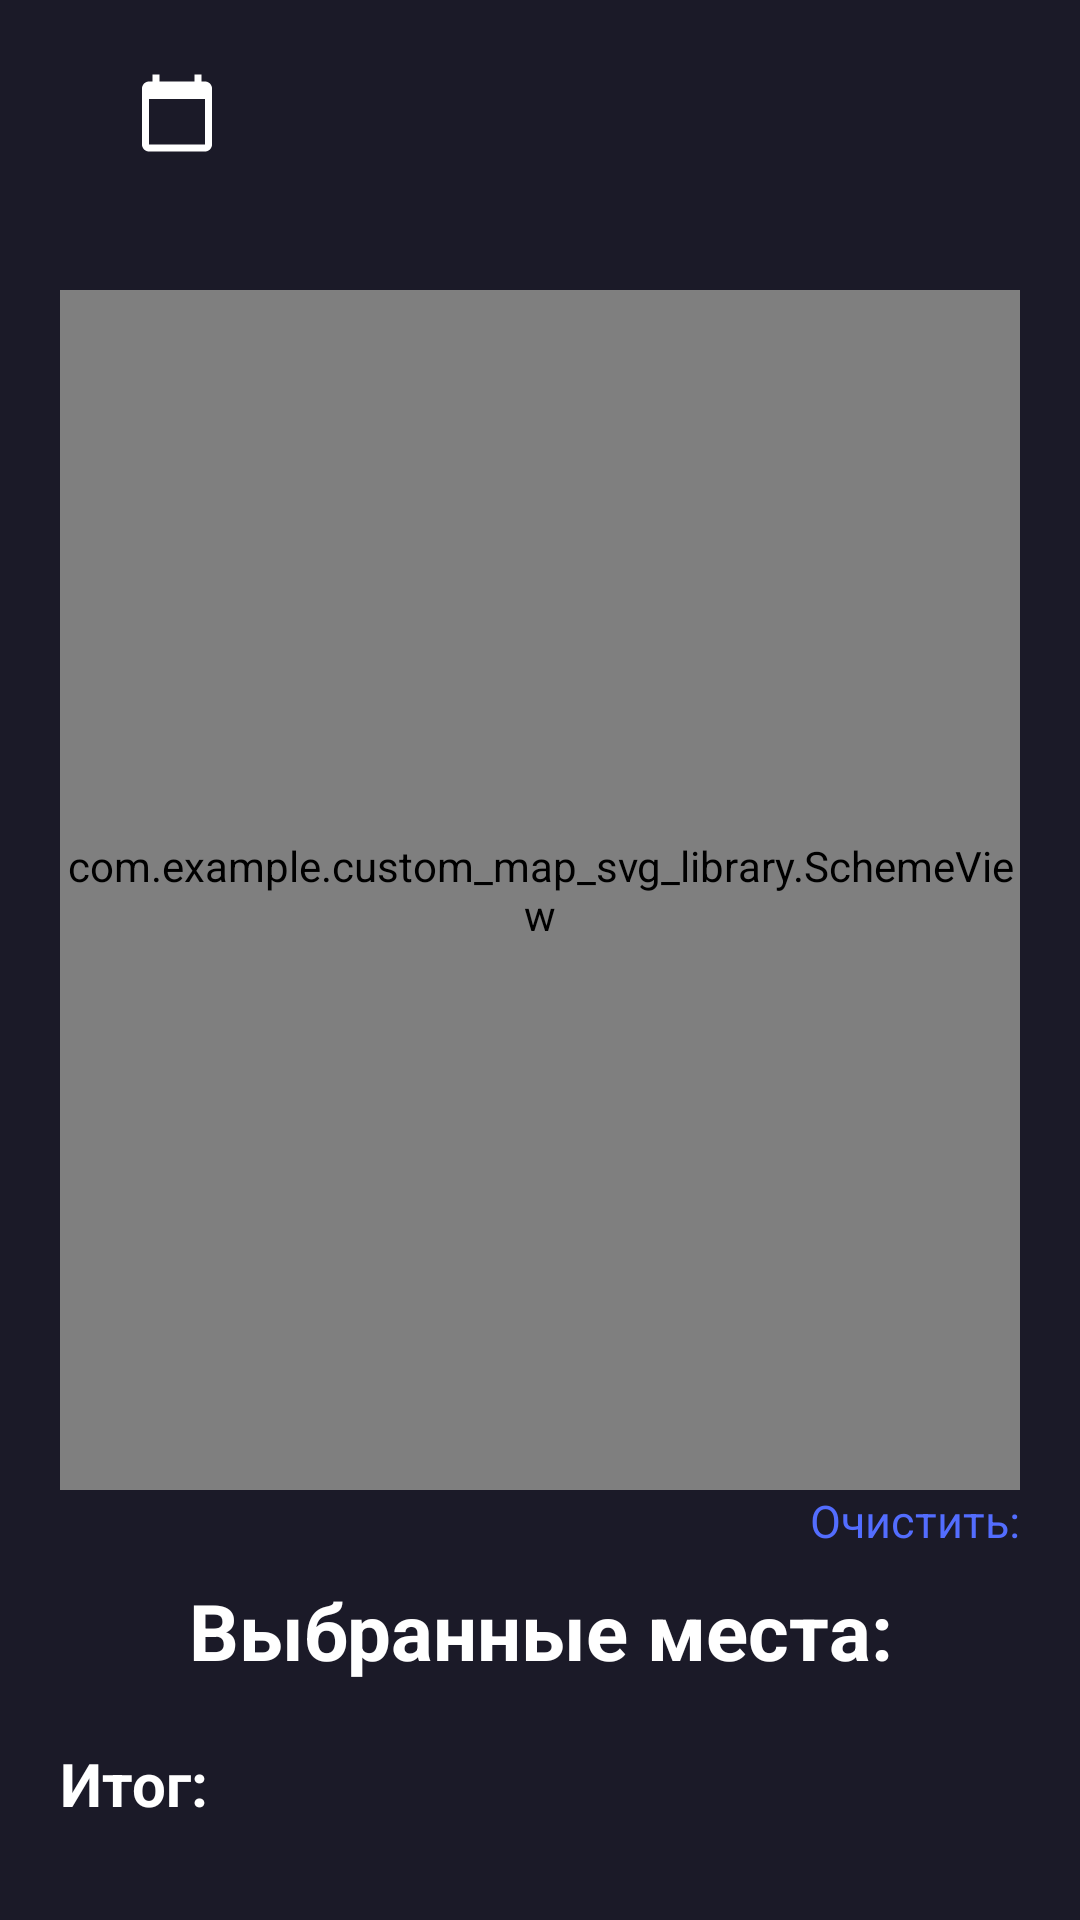

Icons on this 1080w x 1920h Android screen, each with its box as (x1, y1, x2, y2):
calendar today: (142, 74, 212, 152)
